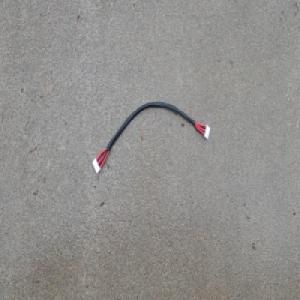Wire: (91, 100, 211, 176)
